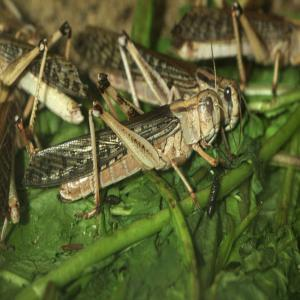locust: (38, 78, 224, 211)
